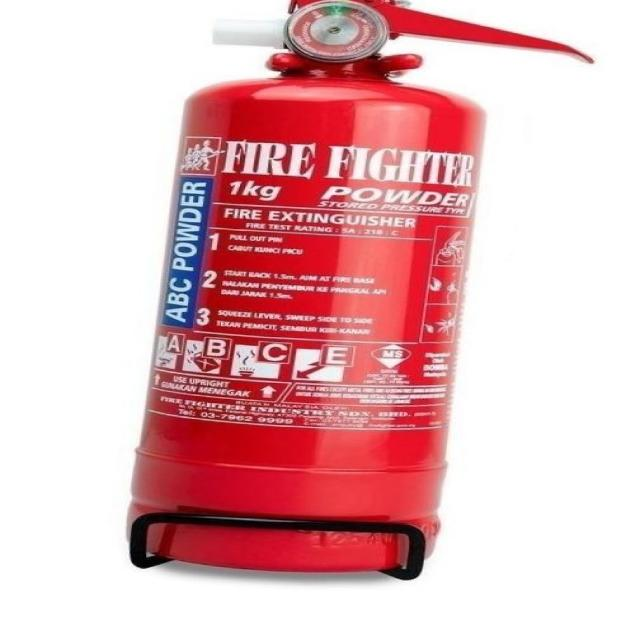fire_extinguisher: (111, 0, 606, 576)
